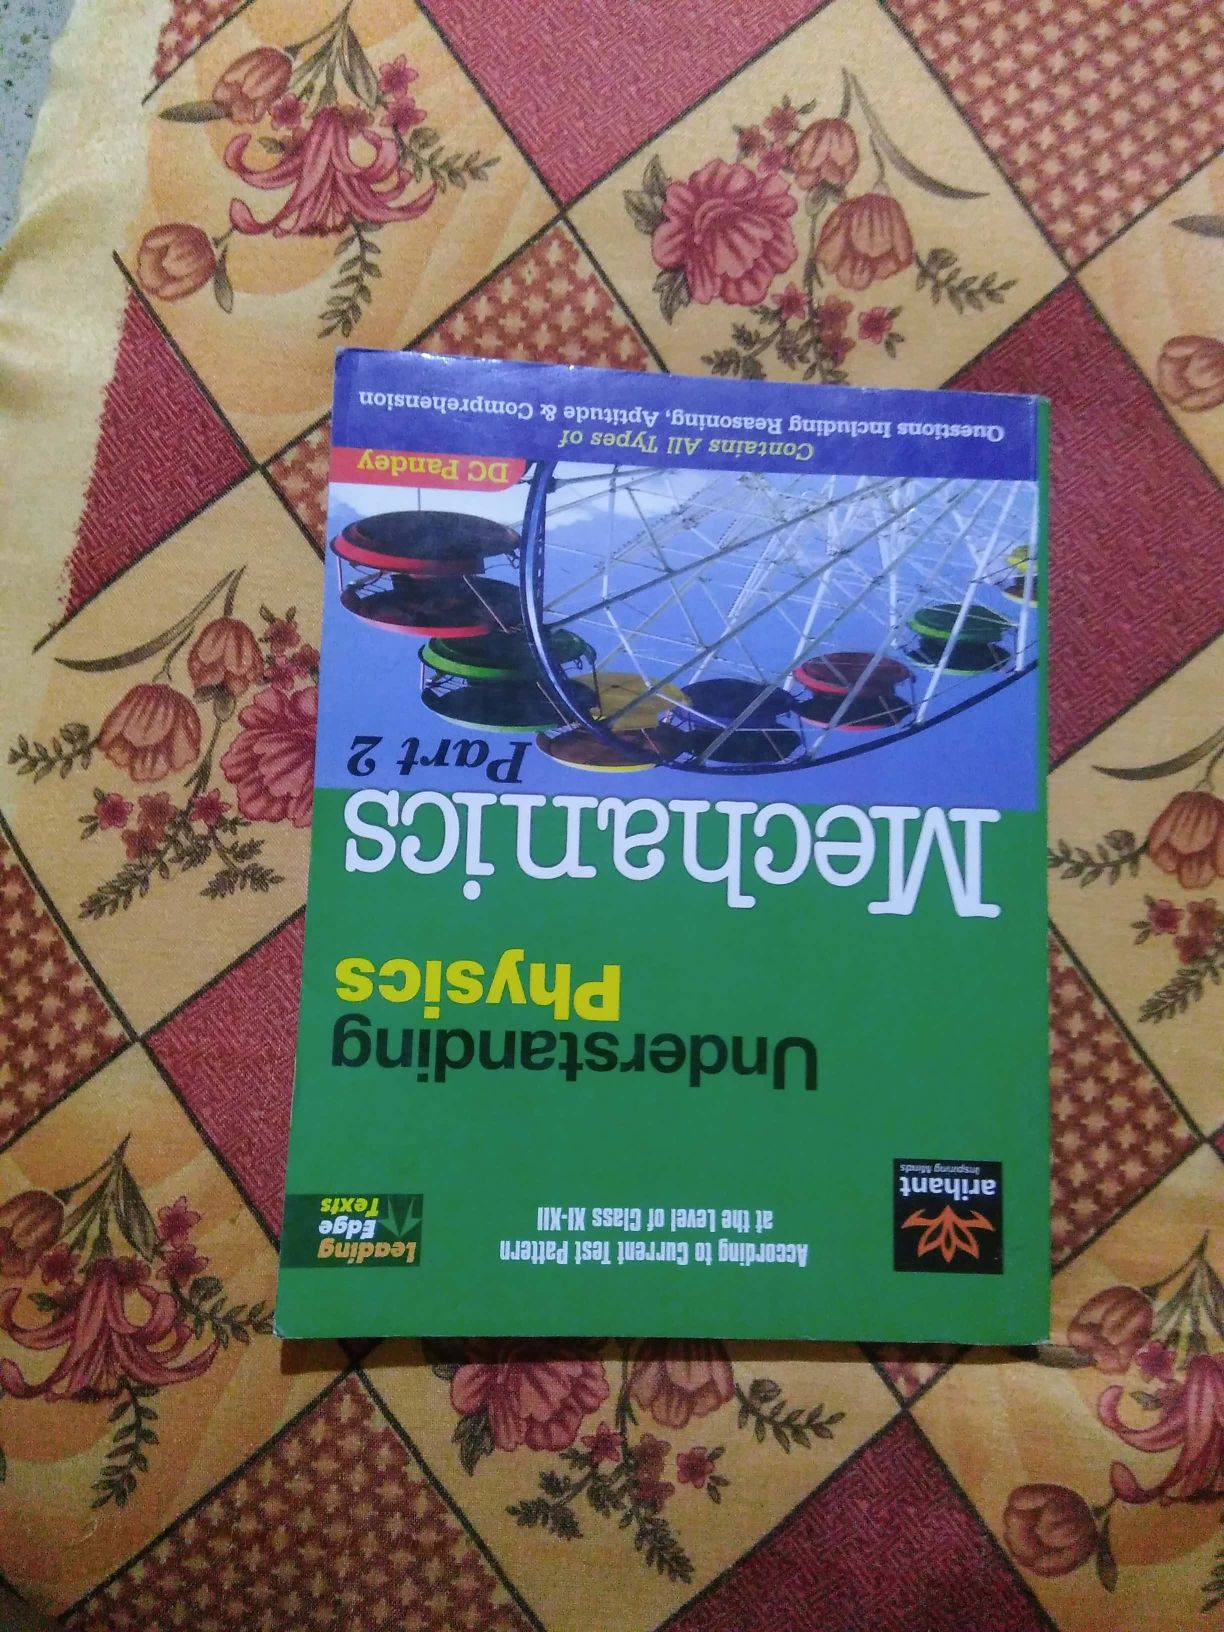mechanics: (294, 346, 1117, 1432)
